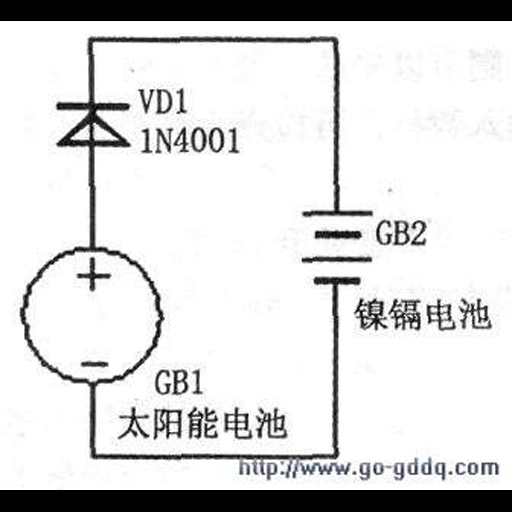battery: (293, 203, 374, 289)
seconddiode: (49, 94, 134, 161)
